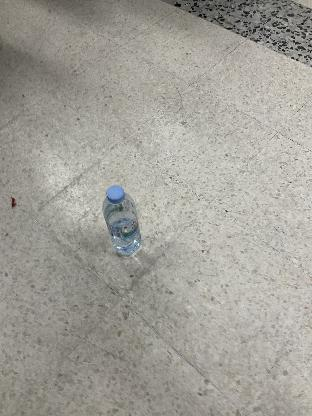Plastic Bottle: (103, 186, 143, 258)
